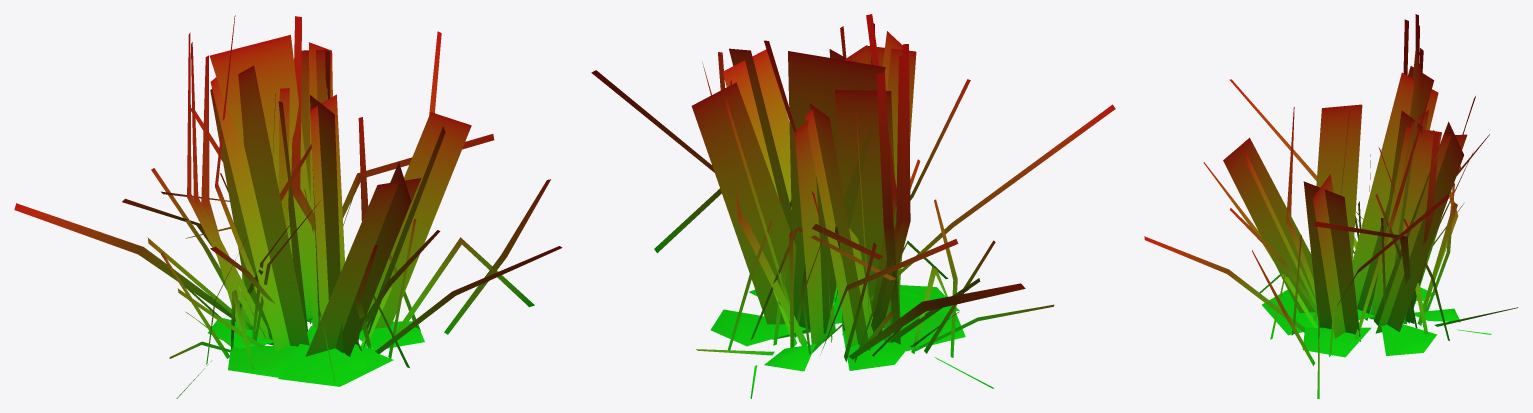
Rendered from Var8_LOD3.fbx.
3 renders of one model, left to right at view 1: azimuth 30°, elevation 25°; view 2: azimuth 150°, elevation 25°; view 3: azimuth 270°, elevation 25°, orthographic. The views are drawn at different scales.
Parts seen in each view (by area): view 1: _d2d6_Var8_LOD3; view 2: _d2d6_Var8_LOD3; view 3: _d2d6_Var8_LOD3.
Boxes of the visible parts, x1,y1,x2,y2 form: _d2d6_Var8_LOD3: (14, 15, 562, 398); _d2d6_Var8_LOD3: (591, 14, 1115, 398); _d2d6_Var8_LOD3: (1144, 14, 1517, 398).
Size of the model in its own units: 25.46 by 19.34 by 21.96.
